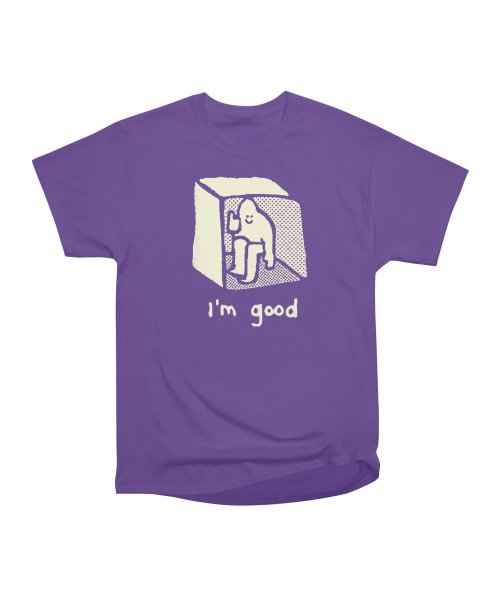design: (184, 172, 311, 330)
